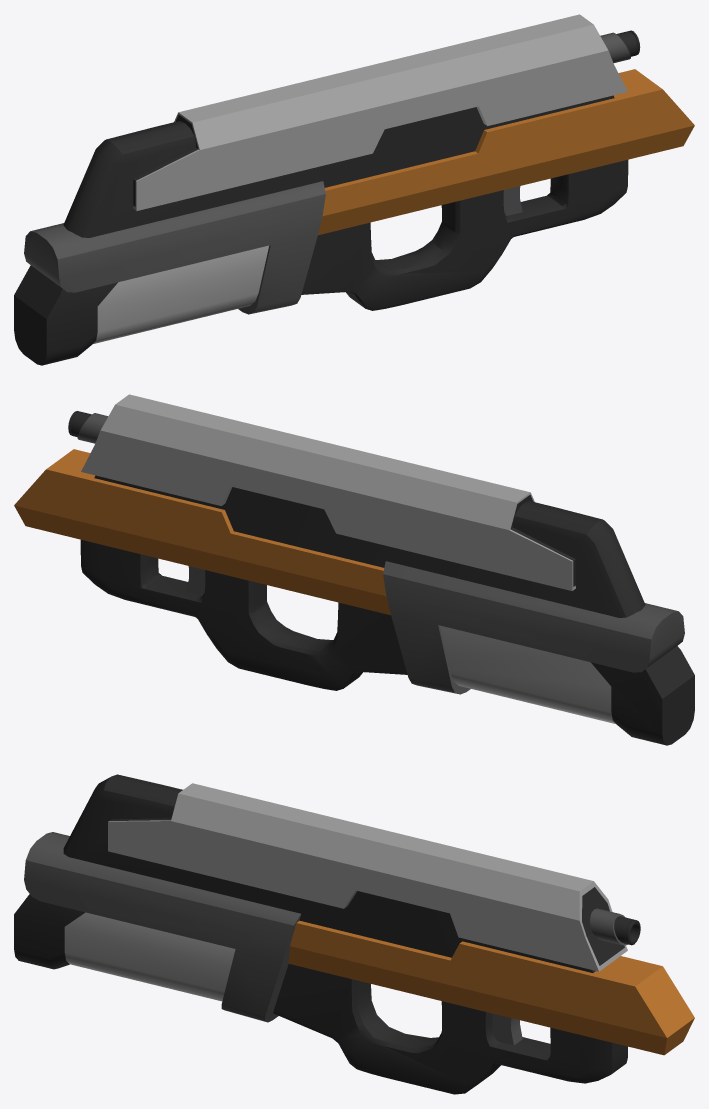
Rendered from quaternius-modular-sci-fi-guns-ar-5.glb.
3 views of the same model, one above another, from view 1: azimuth 30°, elevation 25°; view 2: azimuth 150°, elevation 25°; view 3: azimuth 330°, elevation 25° (orthographic).
Visible parts, largest first — view 1: AR_5; view 2: AR_5; view 3: AR_5.
Boxes of the visible parts, box(x1,y1,x2,y2) form: AR_5: box(14, 14, 694, 365); AR_5: box(14, 394, 694, 745); AR_5: box(14, 774, 694, 1094).
Size of the model in its own units: 1.57 by 0.5378 by 0.1478.
